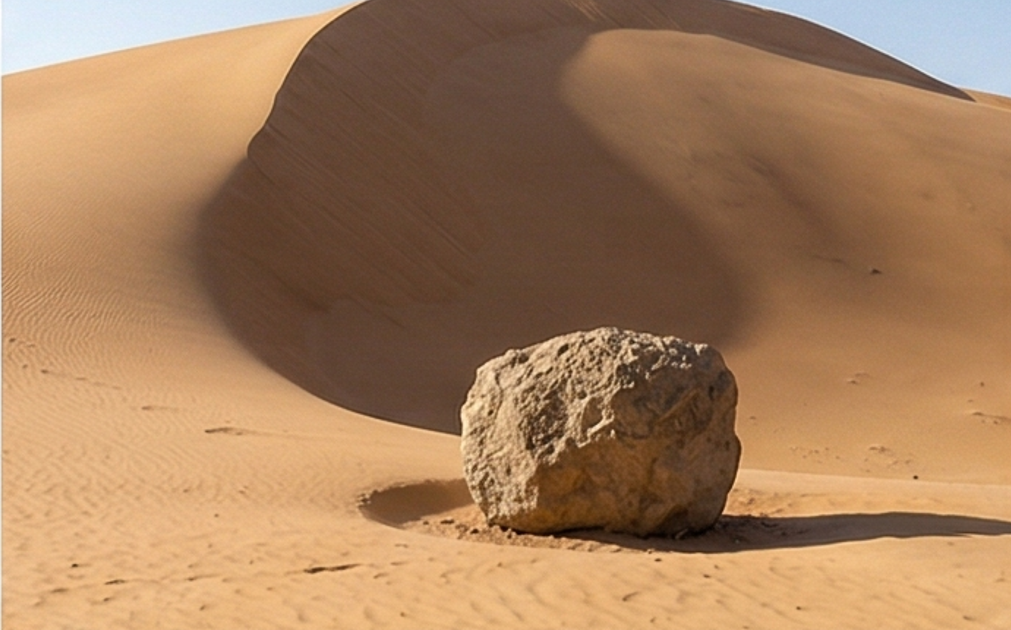rocks: (461, 328, 740, 534)
